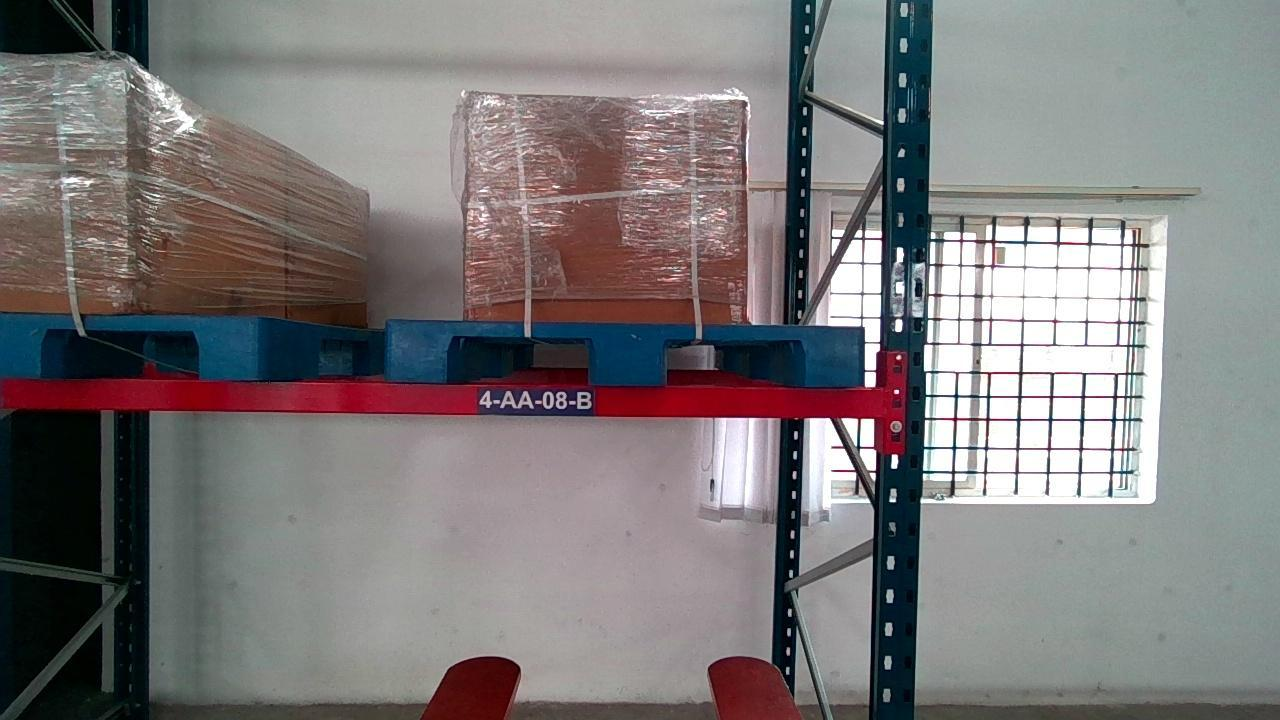h_rack: (0, 380, 888, 418)
small_pallet: (389, 321, 861, 382), (0, 316, 262, 378)
